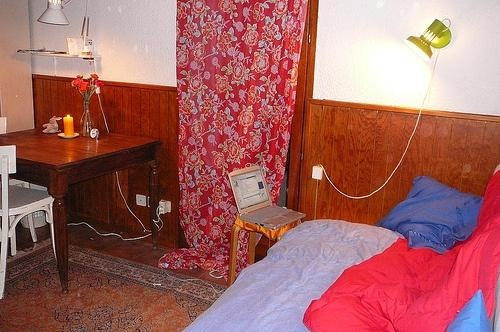chair: (3, 146, 58, 302)
sofa: (185, 161, 500, 332)
